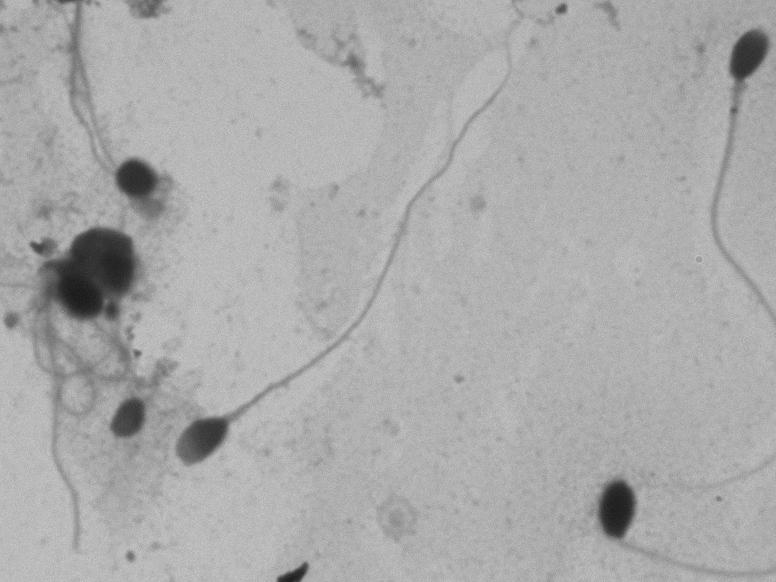Abnormal: (552, 450, 756, 568)
Normal: (174, 17, 546, 488)
